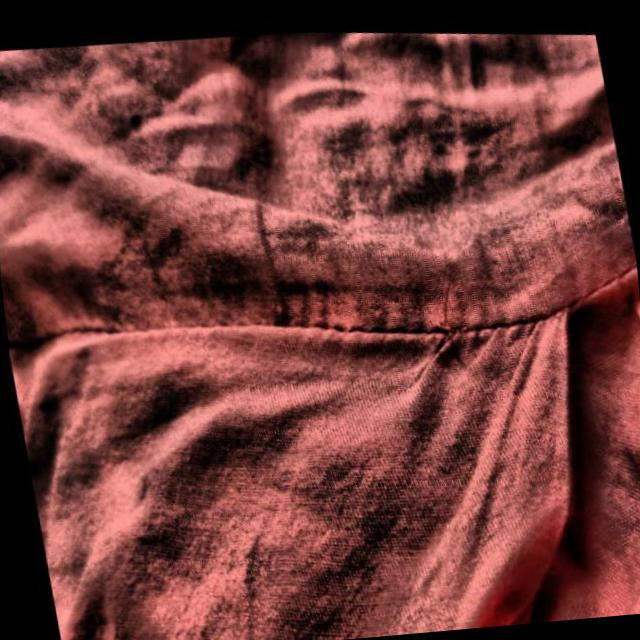seam: (19, 259, 640, 377)
